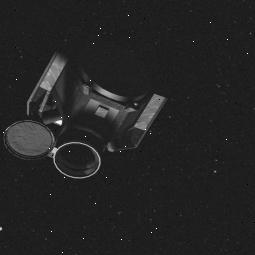cheops: (8, 53, 158, 177)
